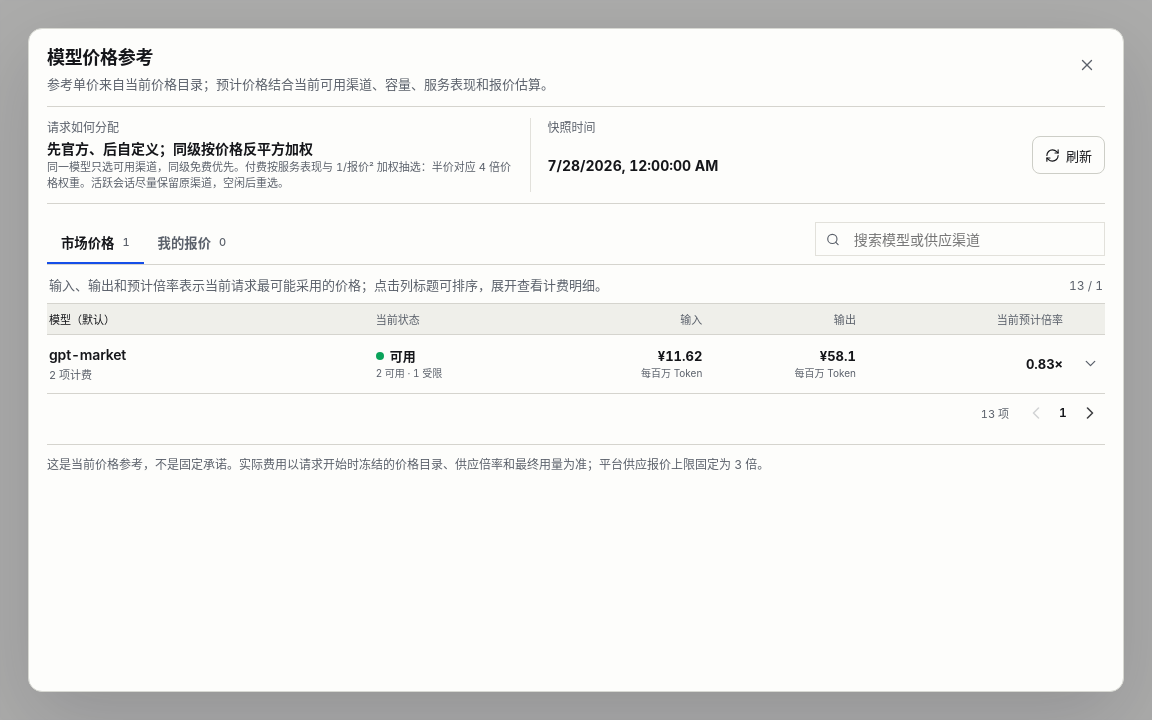
Scenario: MarketPricesModal › requests a new server page after using the pager
Expected: the heading "gpt-market" is shown, left=49, top=346, right=126, bottom=363
Expected: the button named "上一页" is disabled, left=1021, top=398, right=1051, bottom=428
Click the button named "下一页".
click(1090, 413)  # box left=1075, top=398, right=1105, bottom=428
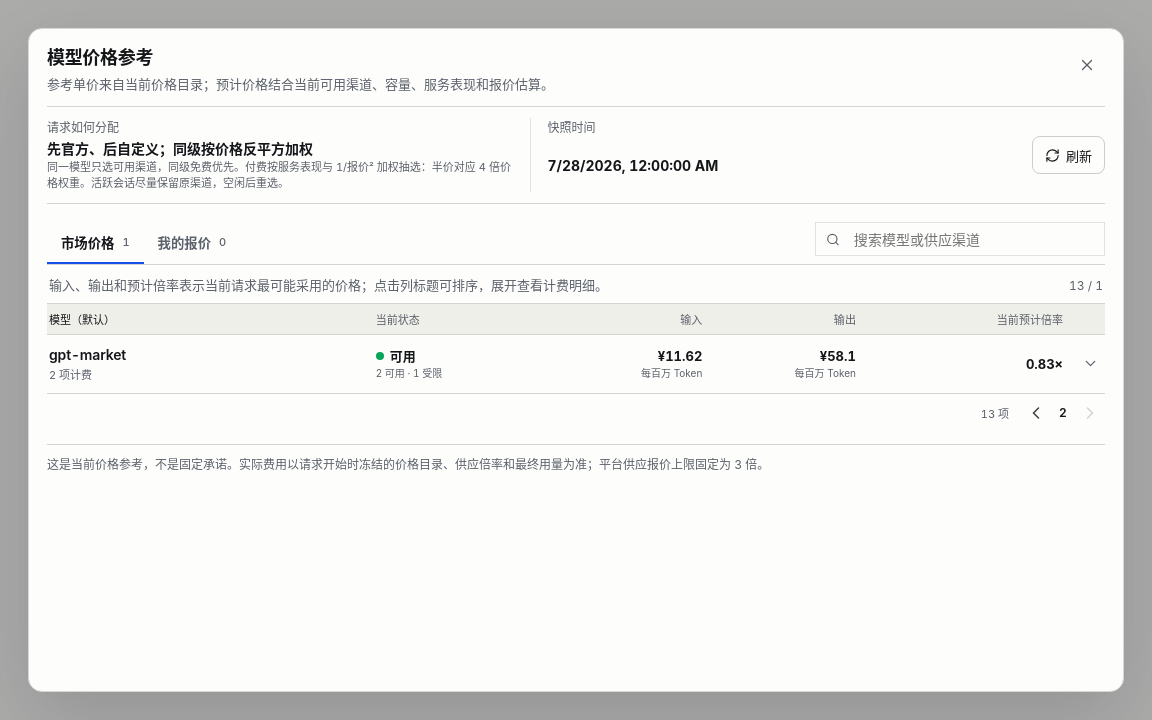
Expected: the text "13 项" is shown, left=981, top=405, right=1009, bottom=421
Expected: the text named "第 2 / 2 页 · 13 项" reads "2", left=1059, top=406, right=1067, bottom=420
